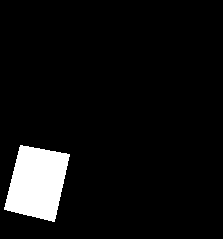parkingspot: (4, 145, 69, 221)
